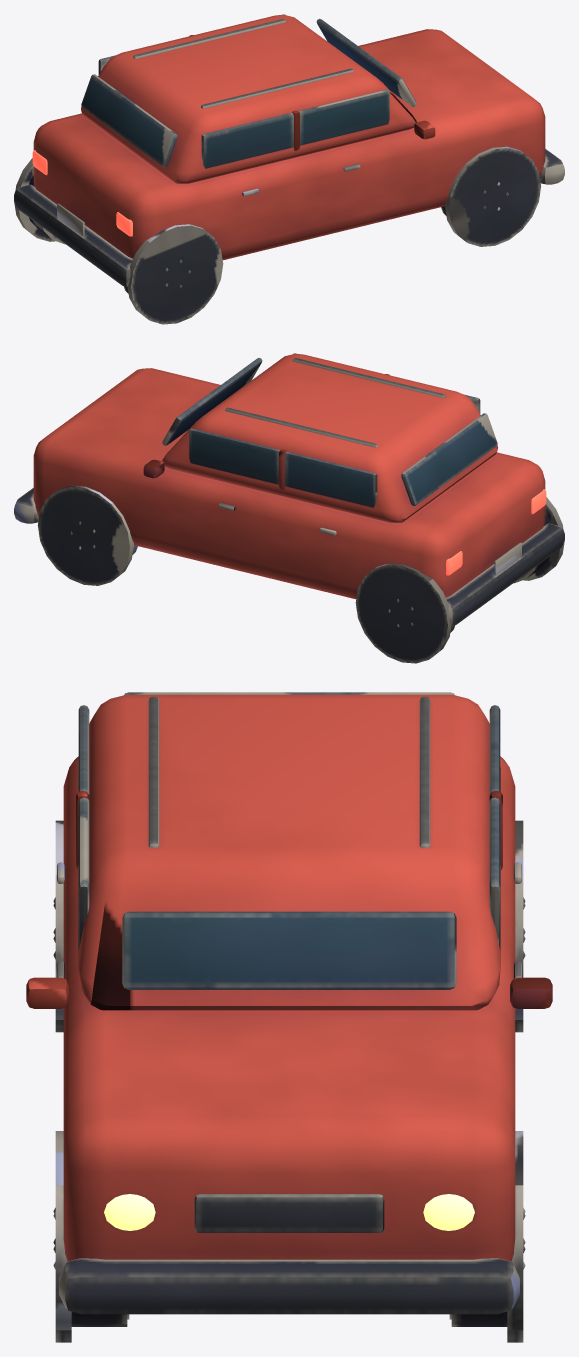
The model's file is car_hatch.glb.
The picture shows the model from 3 angles, top to bottom: view 1: azimuth 30°, elevation 25°; view 2: azimuth 150°, elevation 25°; view 3: azimuth 270°, elevation 25°; orthographic projection. The views are drawn at different scales.
Parts seen in each view (by area): view 1: Body; view 2: Body; view 3: Body, Wheel_FL, Wheel_FR.
Part boxes in pixels (x1=…): Body: x1=14, y1=14, x2=564, y2=324; Body: x1=14, y1=353, x2=564, y2=663; Body: x1=26, y1=692, x2=552, y2=1342; Wheel_FL: x1=449, y1=1207, x2=525, y2=1326; Wheel_FR: x1=53, y1=1207, x2=129, y2=1326.
Size of what is drawn, in the model's own units: 3.86 by 1.56 by 1.98.
Materials: 4 (2 with a texture image).
